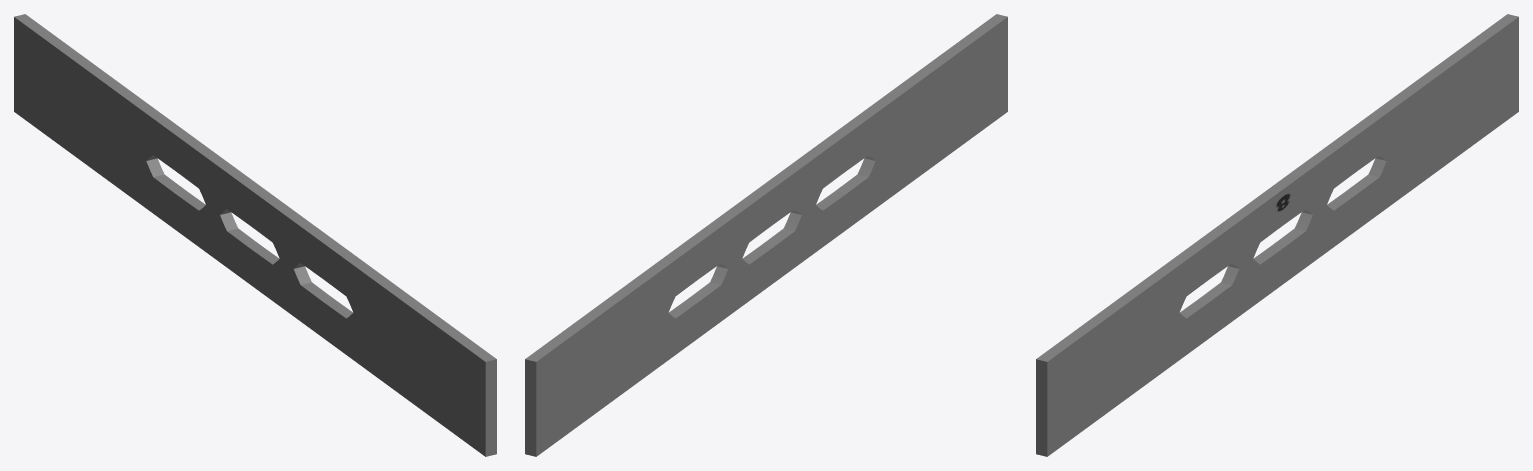
The model's file is windowWall.obj.
3 renders of one model, left to right at view 1: azimuth 30°, elevation 25°; view 2: azimuth 150°, elevation 25°; view 3: azimuth 330°, elevation 25°, orthographic.
Parts seen in each view (by area): view 1: Plane.006; view 2: Plane.006; view 3: Plane.006.
Part boxes in pixels (x1=…): Plane.006: x1=14, y1=14, x2=496, y2=456; Plane.006: x1=525, y1=14, x2=1007, y2=456; Plane.006: x1=1036, y1=14, x2=1518, y2=456.
Bounding box in the file's own units: 0.5 × 4 × 36.
